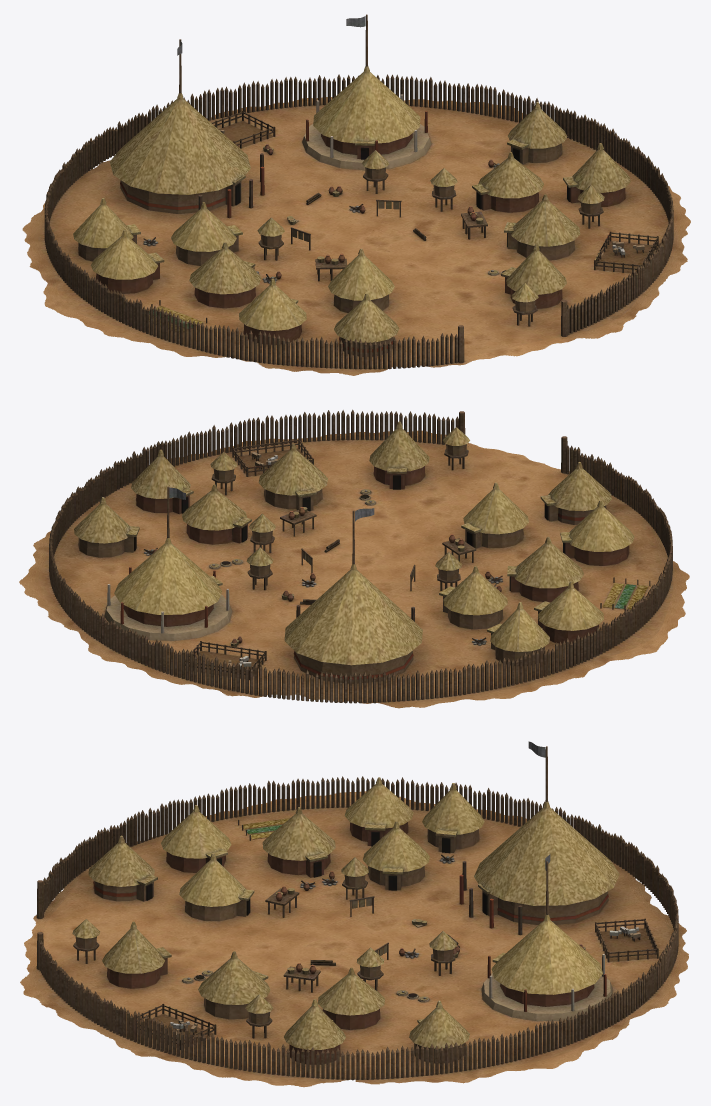
File: stone-town-medium-a.glb
The picture shows the model from 3 angles, top to bottom: view 1: azimuth 30°, elevation 25°; view 2: azimuth 150°, elevation 25°; view 3: azimuth 270°, elevation 25°; orthographic projection. The views are drawn at different scales.
Parts seen in each view (by area): view 1: LOD0; view 2: LOD0; view 3: LOD0.
Boxes of the visible parts, <box> form: LOD0: <box>22,14,690,375</box>; LOD0: <box>19,409,689,708</box>; LOD0: <box>20,741,688,1087</box>.
Size of what is drawn, in the model's own units: 6.01 by 1.45 by 5.74.
3 materials, 3 textured.
